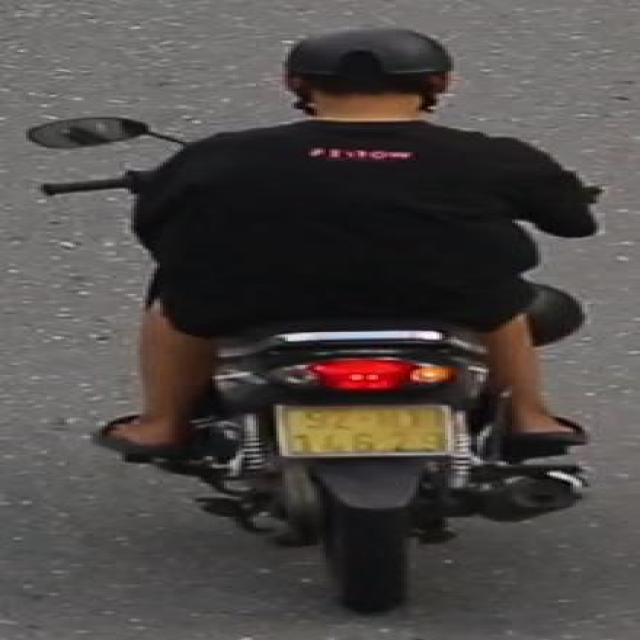LP: (268, 394, 462, 461)
helmet: (256, 17, 465, 143)
